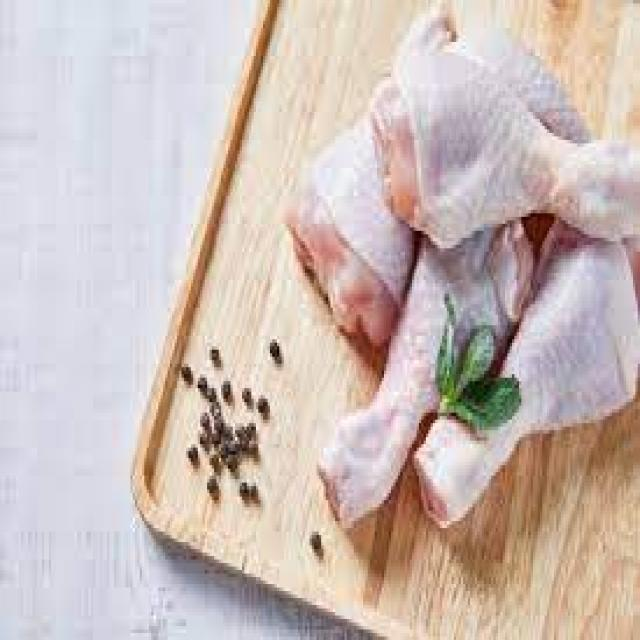chicken: (312, 208, 536, 538), (416, 216, 640, 526), (368, 36, 640, 263), (291, 14, 469, 340)
